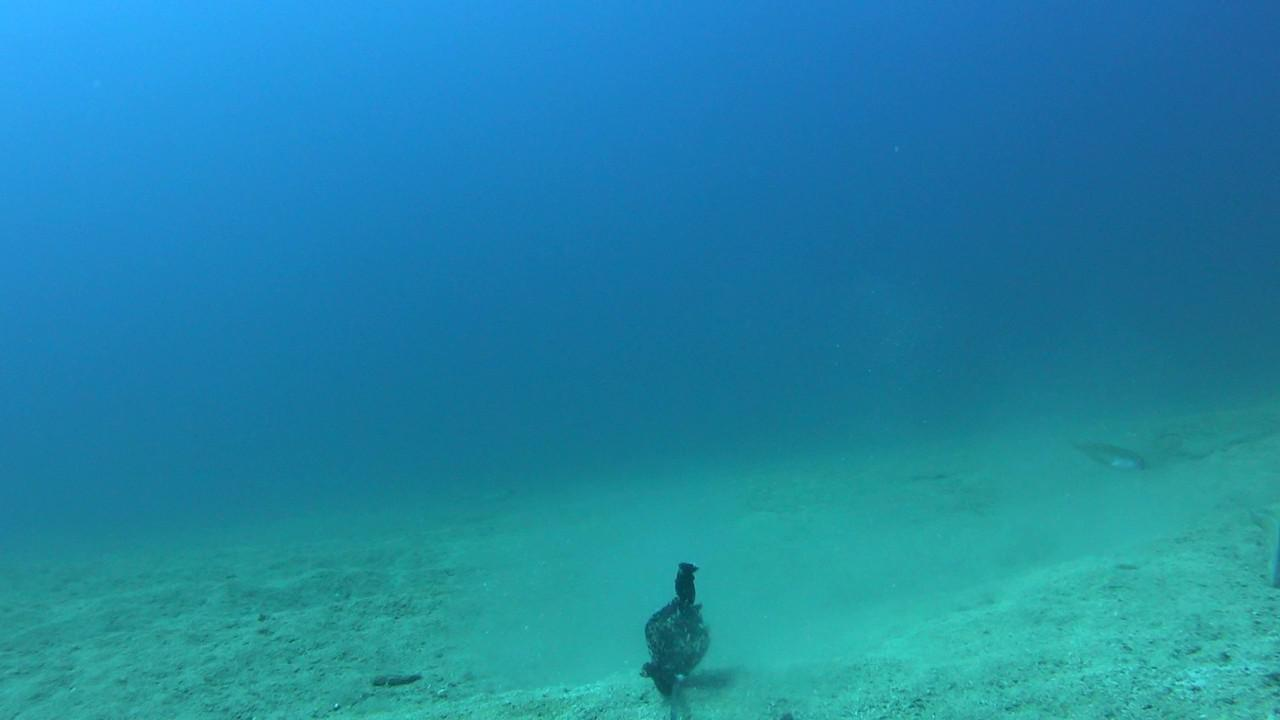myliobatis: (461, 476, 539, 521)
raor: (1058, 442, 1151, 472)
